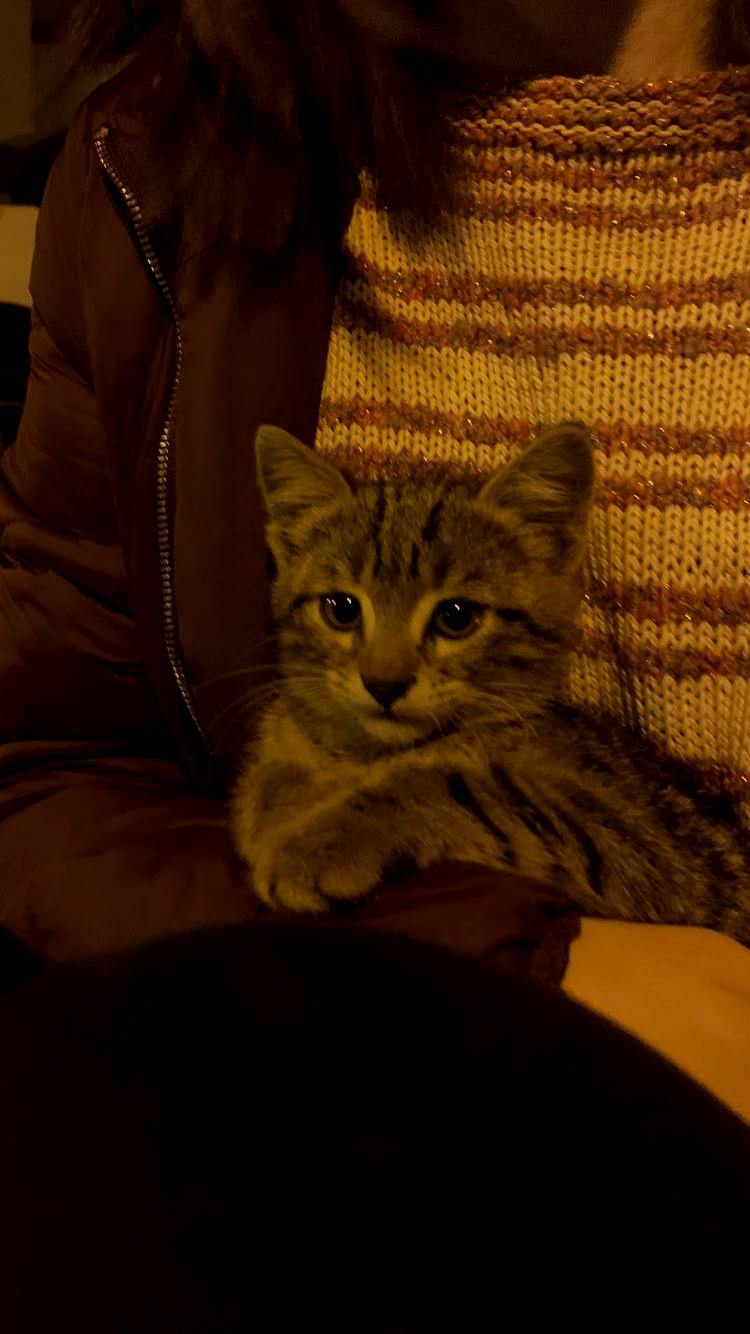macka: (231, 422, 749, 918)
